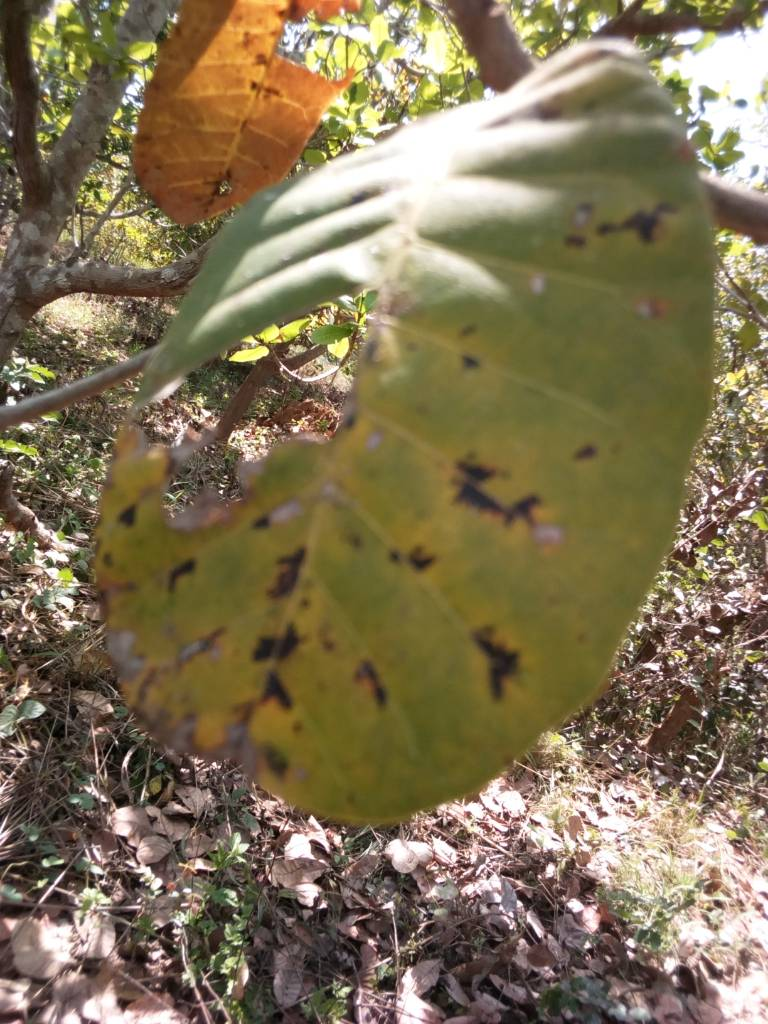Bactériose: (90, 135, 699, 821)
